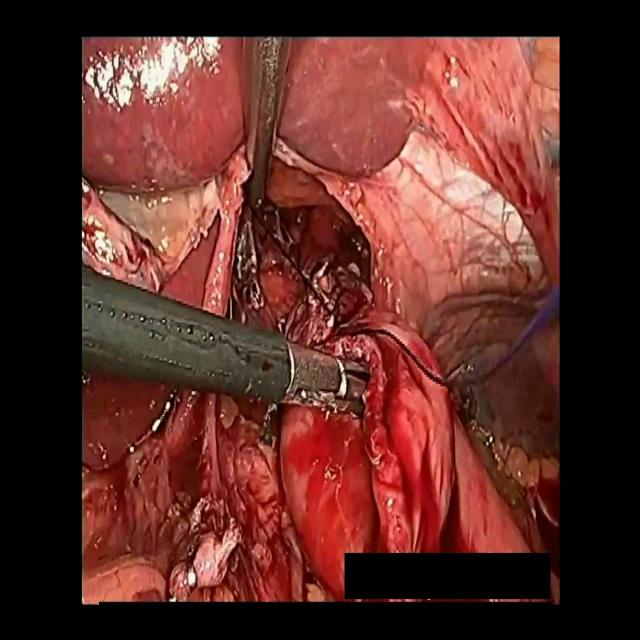surgical-area: (82, 41, 559, 609)
surgical-tool: (82, 266, 368, 420)
